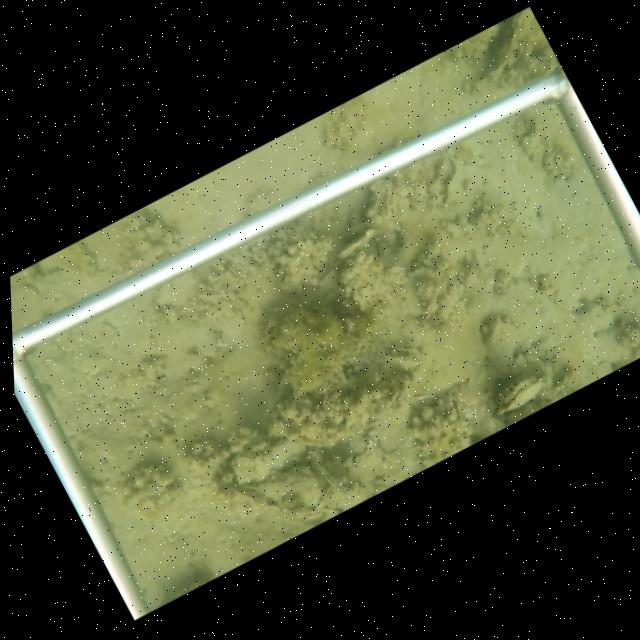Oyster-Closed: (227, 437, 309, 486), (250, 462, 323, 509), (494, 374, 553, 418), (491, 367, 539, 414), (439, 155, 476, 207)
